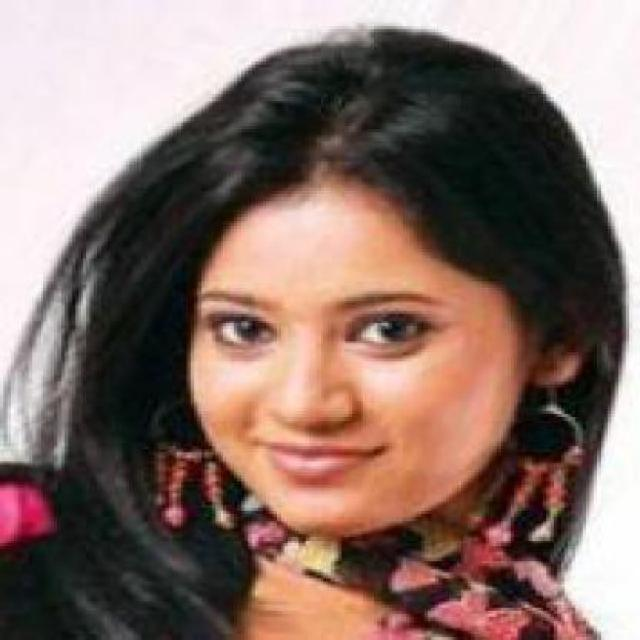closed-mouth: (254, 432, 386, 482)
